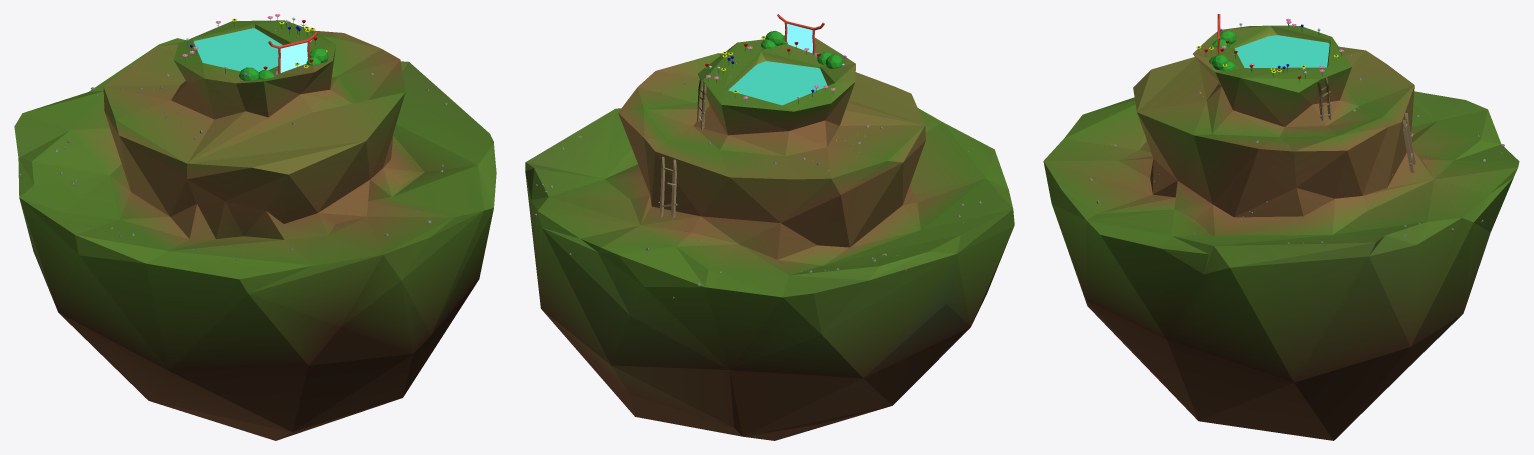
3 views of the same model, side by side, from view 1: azimuth 30°, elevation 25°; view 2: azimuth 150°, elevation 25°; view 3: azimuth 270°, elevation 25° (orthographic). The views are drawn at different scales.
Visible parts, largest first — view 1: Island.003, Water.003, Magical Portal.003; view 2: Island.003, Water.003, Bottom Ladder.003, Magical Portal.003; view 3: Island.003, Water.003.
Boxes of the visible parts, <box> form: Island.003: <box>14,20,496,440</box>; Water.003: <box>194,28,282,72</box>; Magical Portal.003: <box>280,42,307,72</box>; Island.003: <box>525,37,1014,440</box>; Water.003: <box>728,61,827,105</box>; Bottom Ladder.003: <box>659,157,677,218</box>; Magical Portal.003: <box>787,23,812,53</box>; Island.003: <box>1043,25,1519,440</box>; Water.003: <box>1235,35,1329,67</box>.
Size of the model in its own units: 41.96 by 39.87 by 43.73.
